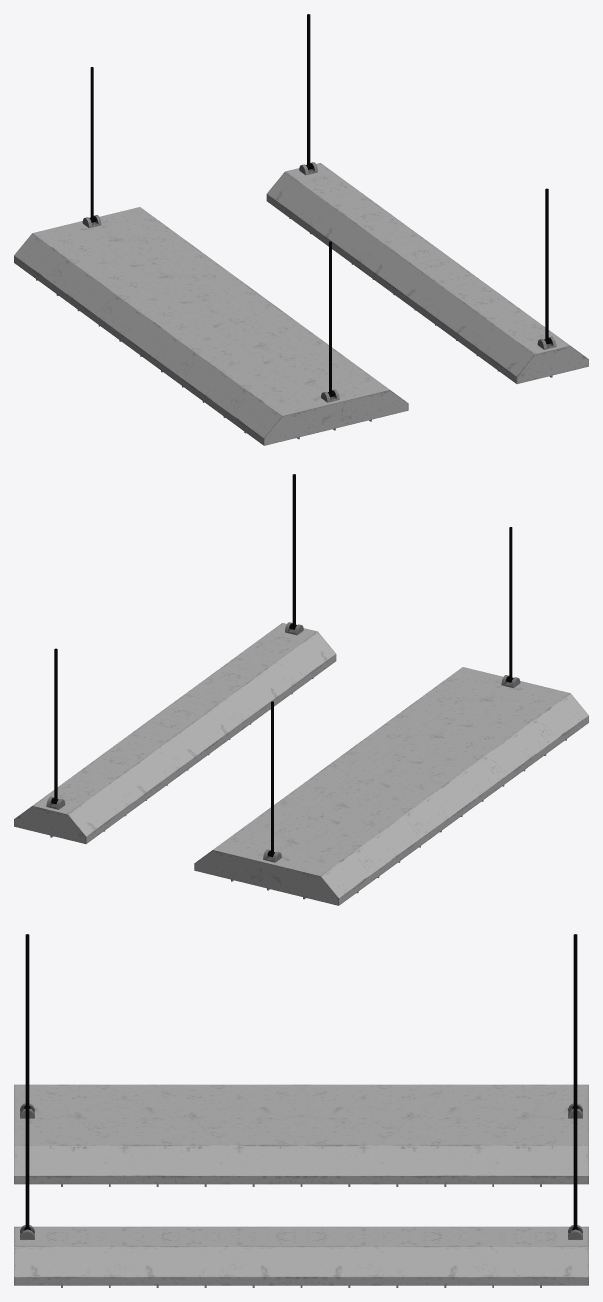
File: hanging_lights.glb
The picture shows the model from 3 angles, top to bottom: view 1: azimuth 30°, elevation 25°; view 2: azimuth 150°, elevation 25°; view 3: azimuth 270°, elevation 25°; orthographic projection. The views are drawn at different scales.
Parts seen in each view (by area): view 1: Hanging_Light_low5; view 2: Hanging_Light_low5; view 3: Hanging_Light_low5.
Part boxes in pixels (x1,y1,x2,y2): Hanging_Light_low5: (14, 14, 588, 445); Hanging_Light_low5: (14, 474, 588, 905); Hanging_Light_low5: (14, 934, 588, 1287).
Bounding box in the file's own units: 225 × 122 × 300.
1 material, 1 textured.
